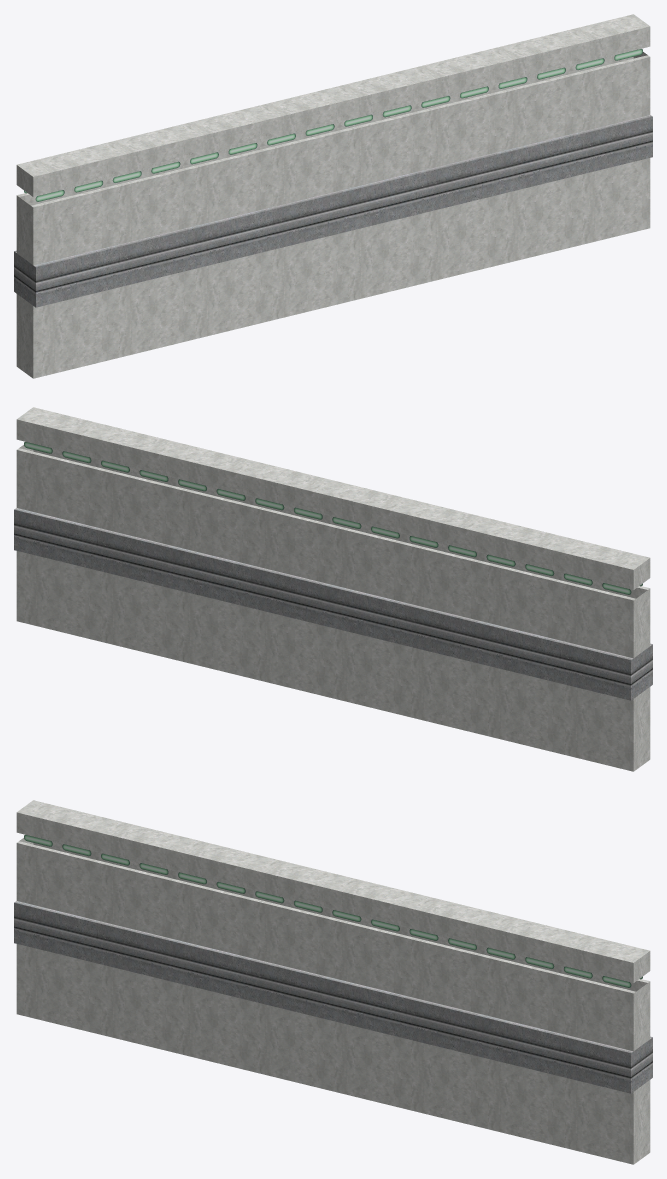
The model's file is thm_corl_imprv_wall_4x16_s01_l0.fbx.
3 views of the same model, one above another, from view 1: azimuth 30°, elevation 25°; view 2: azimuth 150°, elevation 25°; view 3: azimuth 330°, elevation 25° (orthographic).
Parts seen in each view (by area): view 1: mesh_node; view 2: mesh_node; view 3: mesh_node.
Part boxes in pixels (x1,y1,x2,y2): mesh_node: (14, 14, 652, 378); mesh_node: (14, 407, 652, 771); mesh_node: (14, 800, 652, 1164).
Size of the model in its own units: 16 by 5 by 0.9831.
